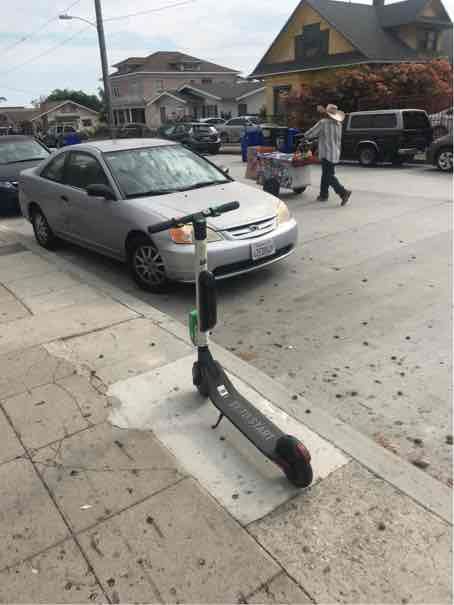scooter: (133, 195, 324, 491)
